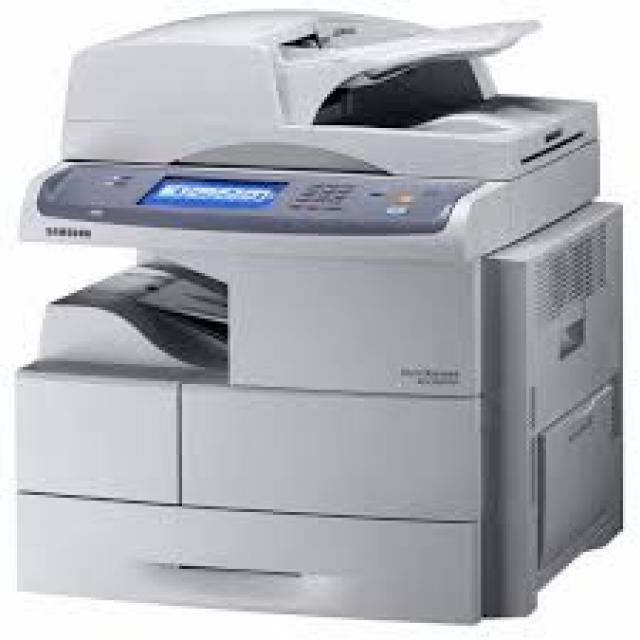printer: (0, 2, 634, 637)
